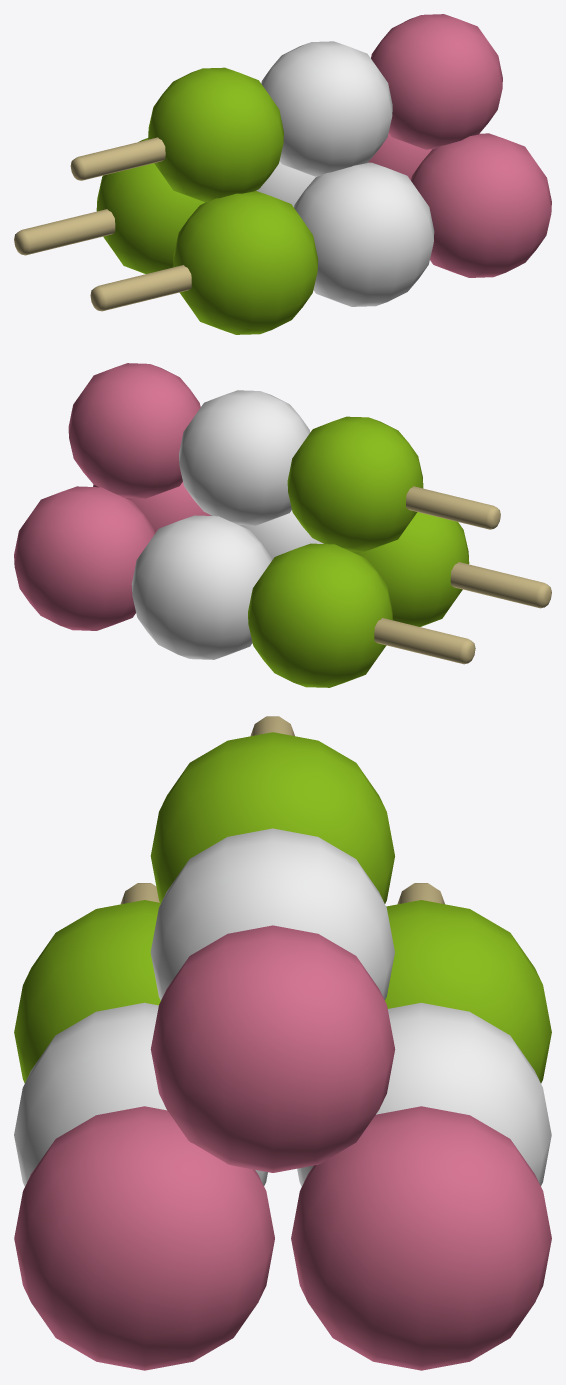
File: dango.glb
3 renders of one model, top to bottom at view 1: azimuth 30°, elevation 25°; view 2: azimuth 150°, elevation 25°; view 3: azimuth 270°, elevation 25°, orthographic. The views are drawn at different scales.
Visible parts, largest first — view 1: Food_Dango; view 2: Food_Dango; view 3: Food_Dango.
Boxes of the visible parts, x1=… form: Food_Dango: x1=14, y1=14, x2=551, y2=334; Food_Dango: x1=14, y1=363, x2=551, y2=687; Food_Dango: x1=14, y1=716, x2=551, y2=1370.
Size of the model in its own units: 0.9144 by 0.4429 by 0.5256.
1 material, 1 textured.
